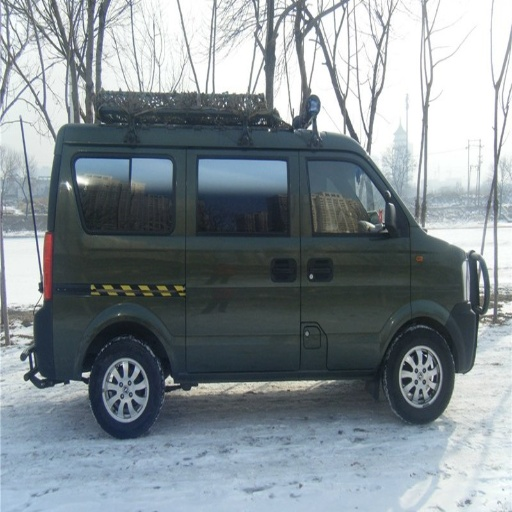back_right_door: (216, 148, 299, 290), (116, 170, 148, 215)
trunk: (53, 236, 184, 368), (328, 254, 462, 355)
